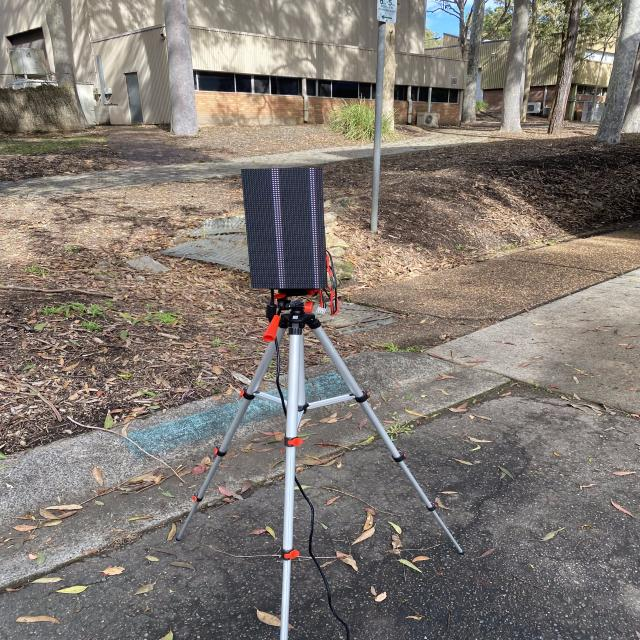matrix: (230, 160, 336, 294)
